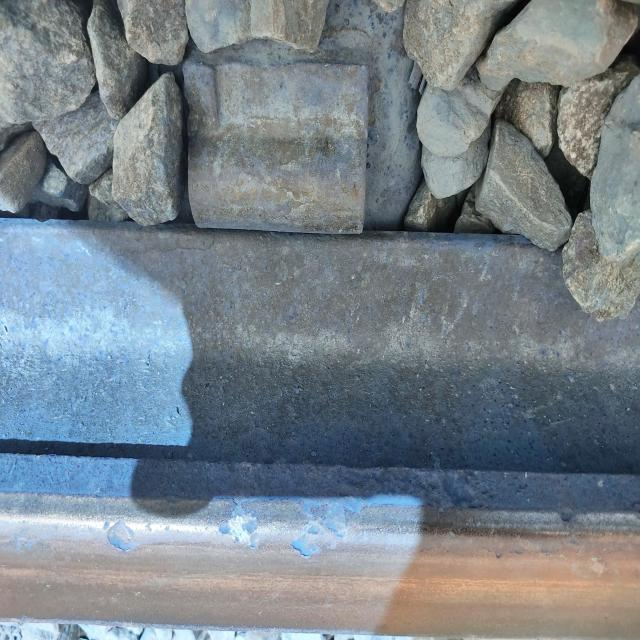Missing Fastener: (170, 39, 394, 261)
